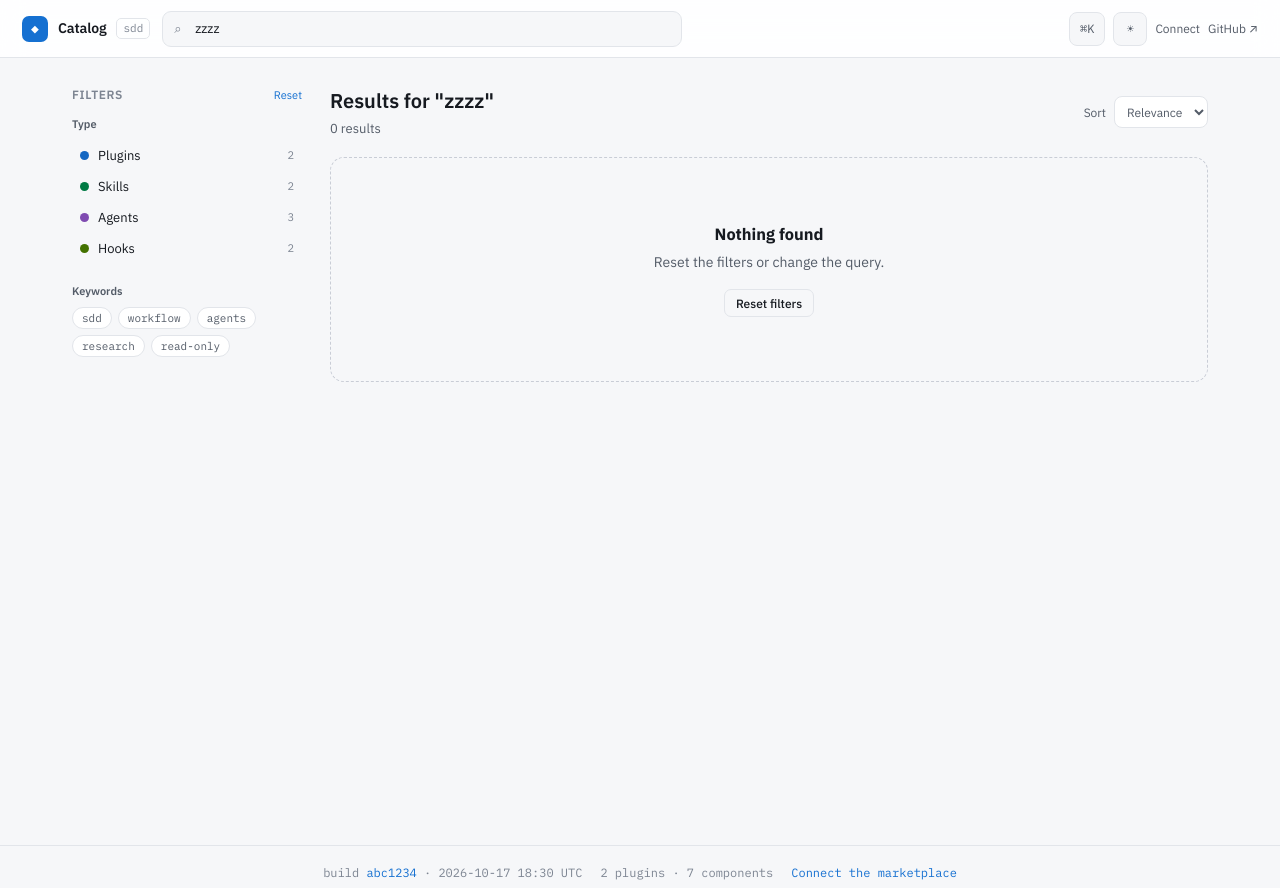
Test: Search › says Nothing found and resets the filters
This screenshot has width=1280, height=888.
Expected: the heading "Nothing found" is shown, [715,222,823,244]
Click the button "Reset filters".
click(769, 303)  # box [724,289,814,317]
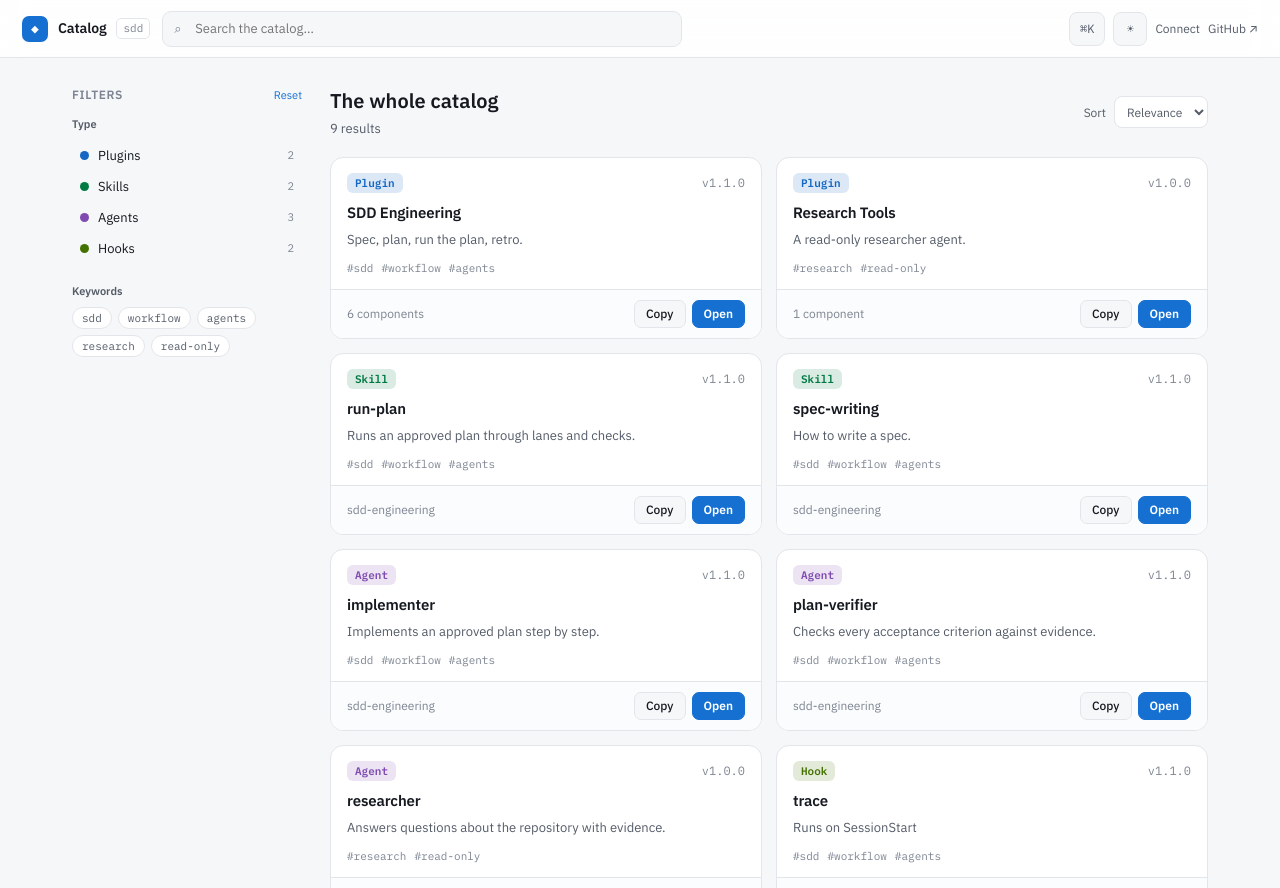
Expected: the text "9 results" is shown, [330,120,381,137]
